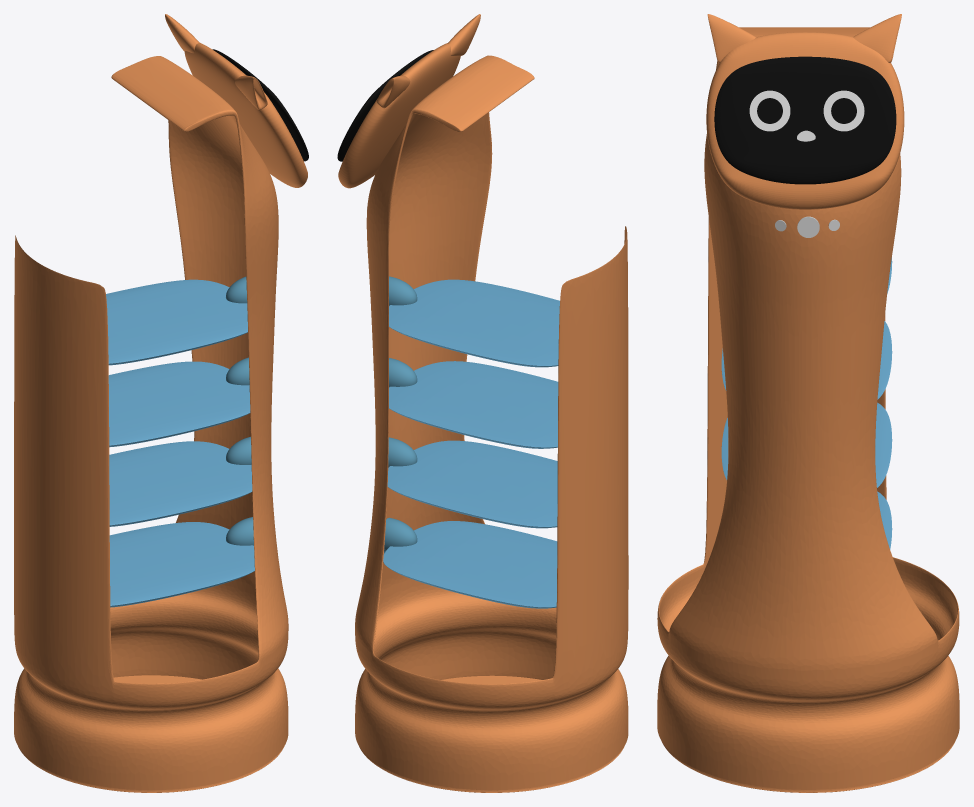
File: Waiter.fbx
3 views of the same model, side by side, from view 1: azimuth 30°, elevation 25°; view 2: azimuth 150°, elevation 25°; view 3: azimuth 270°, elevation 25° (orthographic). The views are drawn at different scales.
Parts seen in each view (by area): view 1: Cylinder, Cube, Cube.005, Cube.007, Cube.006, Cube.001, Cube.002, Cube.004, Sphere.001, Cube.003, Sphere.003; view 2: Cylinder, Cube.007, Cube, Cube.005, Cube.006, Cube.001, Cube.002, Sphere.001, Sphere.003, Cube.004, Sphere.007, Sphere.005 (+1 smaller); view 3: Cylinder, Cube.002, Cube.001, Cube.005, Cube.003, Cube.004, Circle.001, Circle, Cube.006.
Boxes of the visible parts, x1=… form: Cylinder: x1=14, y1=56, x2=288, y2=792; Cube: x1=109, y1=522, x2=254, y2=607; Cube.005: x1=109, y1=441, x2=252, y2=526; Cube.007: x1=106, y1=279, x2=247, y2=365; Cube.006: x1=108, y1=361, x2=250, y2=447; Cube.001: x1=184, y1=43, x2=307, y2=187; Cube.002: x1=212, y1=49, x2=308, y2=161; Cube.004: x1=235, y1=75, x2=267, y2=109; Sphere.001: x1=226, y1=517, x2=253, y2=545; Cube.003: x1=165, y1=14, x2=199, y2=53; Sphere.003: x1=226, y1=436, x2=251, y2=464; Cylinder: x1=355, y1=55, x2=628, y2=792; Cube.007: x1=389, y1=279, x2=559, y2=367; Cube: x1=383, y1=521, x2=557, y2=608; Cube.005: x1=387, y1=440, x2=557, y2=528; Cube.006: x1=389, y1=361, x2=558, y2=448; Cube.001: x1=338, y1=43, x2=460, y2=188; Cube.002: x1=337, y1=50, x2=433, y2=161; Sphere.001: x1=384, y1=517, x2=417, y2=553; Sphere.003: x1=388, y1=437, x2=417, y2=467; Cube.004: x1=448, y1=14, x2=480, y2=55; Sphere.007: x1=389, y1=276, x2=417, y2=305; Sphere.005: x1=389, y1=358, x2=417, y2=386; Cylinder: x1=657, y1=27, x2=959, y2=792; Cube.002: x1=714, y1=56, x2=896, y2=184; Cube.001: x1=706, y1=32, x2=904, y2=209; Cube.005: x1=721, y1=402, x2=892, y2=487; Cube.003: x1=853, y1=14, x2=901, y2=62; Cube.004: x1=707, y1=14, x2=756, y2=63; Circle.001: x1=823, y1=90, x2=864, y2=131; Circle: x1=749, y1=90, x2=790, y2=131; Cube.006: x1=721, y1=321, x2=892, y2=399.
Bounding box in the file's own units: 303 × 791 × 290.
